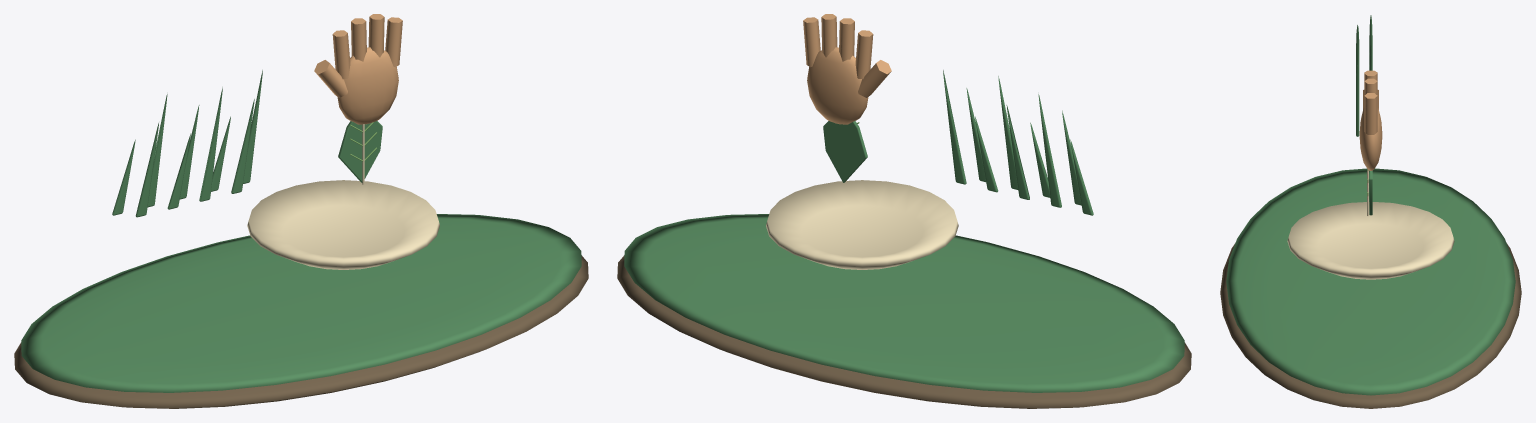
Rendered from complete-first-picked-vegetables.glb.
3 renders of one model, left to right at view 1: azimuth 30°, elevation 25°; view 2: azimuth 150°, elevation 25°; view 3: azimuth 270°, elevation 25°, orthographic. The views are drawn at different scales.
Parts seen in each view (by area): view 1: complete-first-picked-vegetables_surface_01, complete-first-picked-vegetables_surface_03, complete-first-picked-vegetables_surface_00, complete-first-picked-vegetables_surface_02; view 2: complete-first-picked-vegetables_surface_01, complete-first-picked-vegetables_surface_03, complete-first-picked-vegetables_surface_00, complete-first-picked-vegetables_surface_02; view 3: complete-first-picked-vegetables_surface_01, complete-first-picked-vegetables_surface_03, complete-first-picked-vegetables_surface_00, complete-first-picked-vegetables_surface_02.
Part boxes in pixels (box(x1,y1,x2,y2)): complete-first-picked-vegetables_surface_01: box(21, 70, 581, 392); complete-first-picked-vegetables_surface_03: box(247, 124, 439, 269); complete-first-picked-vegetables_surface_00: box(14, 255, 588, 408); complete-first-picked-vegetables_surface_02: box(314, 14, 402, 124); complete-first-picked-vegetables_surface_01: box(624, 70, 1184, 392); complete-first-picked-vegetables_surface_03: box(766, 180, 958, 269); complete-first-picked-vegetables_surface_00: box(617, 255, 1191, 408); complete-first-picked-vegetables_surface_02: box(803, 14, 891, 124); complete-first-picked-vegetables_surface_01: box(1226, 15, 1515, 395); complete-first-picked-vegetables_surface_03: box(1287, 168, 1454, 279); complete-first-picked-vegetables_surface_00: box(1220, 244, 1521, 408); complete-first-picked-vegetables_surface_02: box(1359, 70, 1382, 170).
Size of the model in its own units: 4.56 by 2.36 by 2.5.
